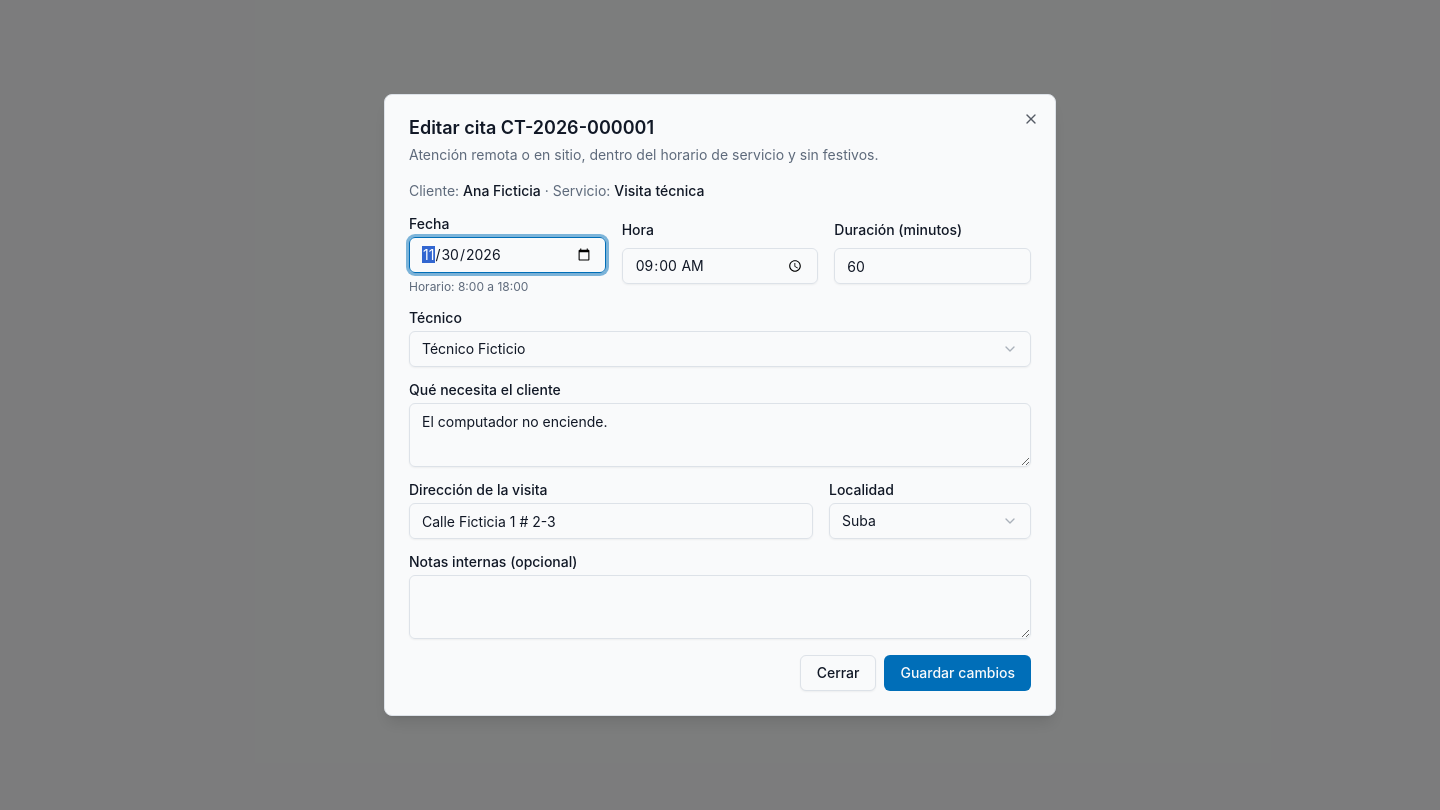
Test case: AppointmentFormDialog › asks for a reason when the technician is busy and then saves
Later steps or results of the test are not shown.
expect the date field labelled "Fecha" holds "2026-11-30": met, box [409,237,606,273]
Replace the text in the time field labelled "Hora" with "09:30" at (720, 266), box [622,248,818,284]
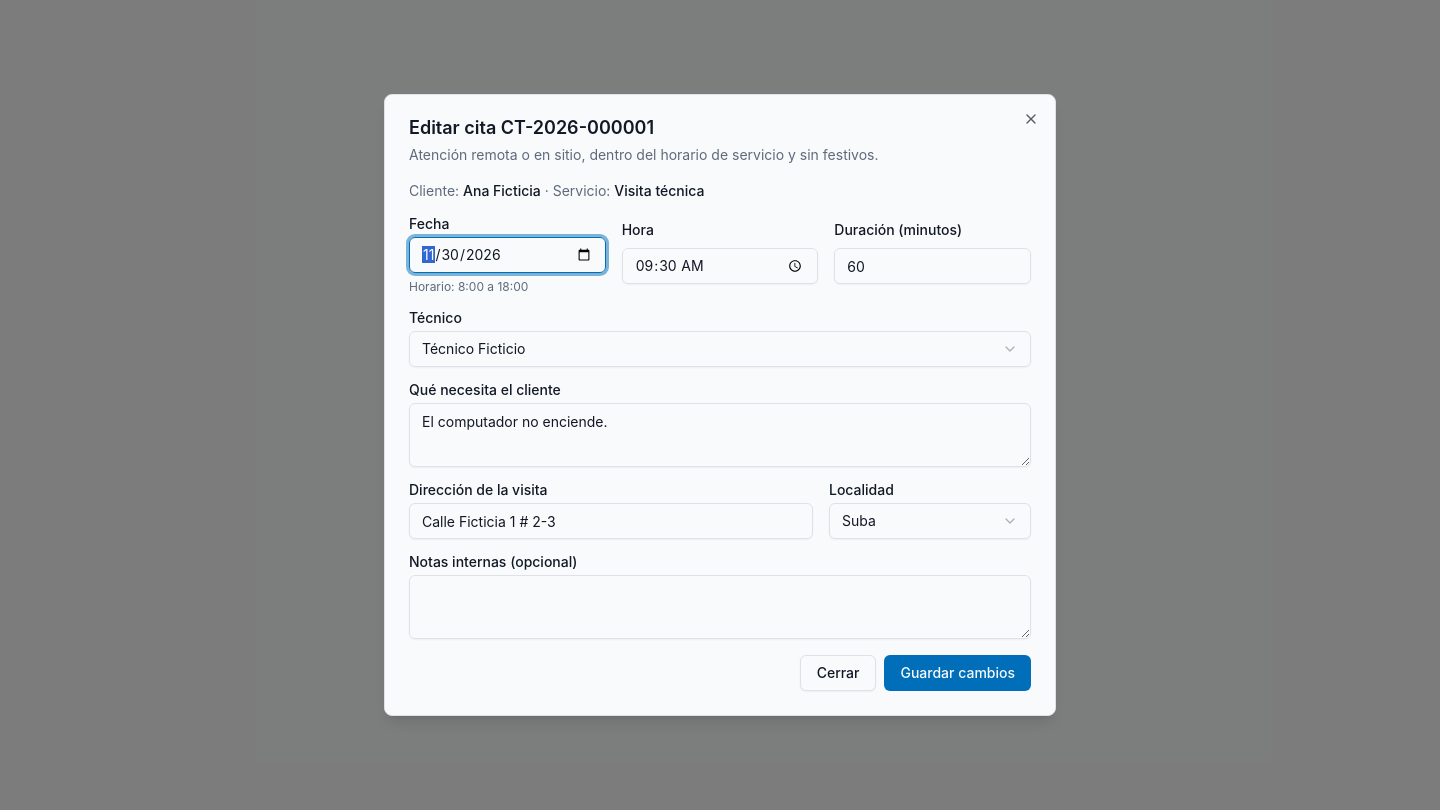
Click the button "Guardar cambios" at (958, 673), box [884,655,1031,691]
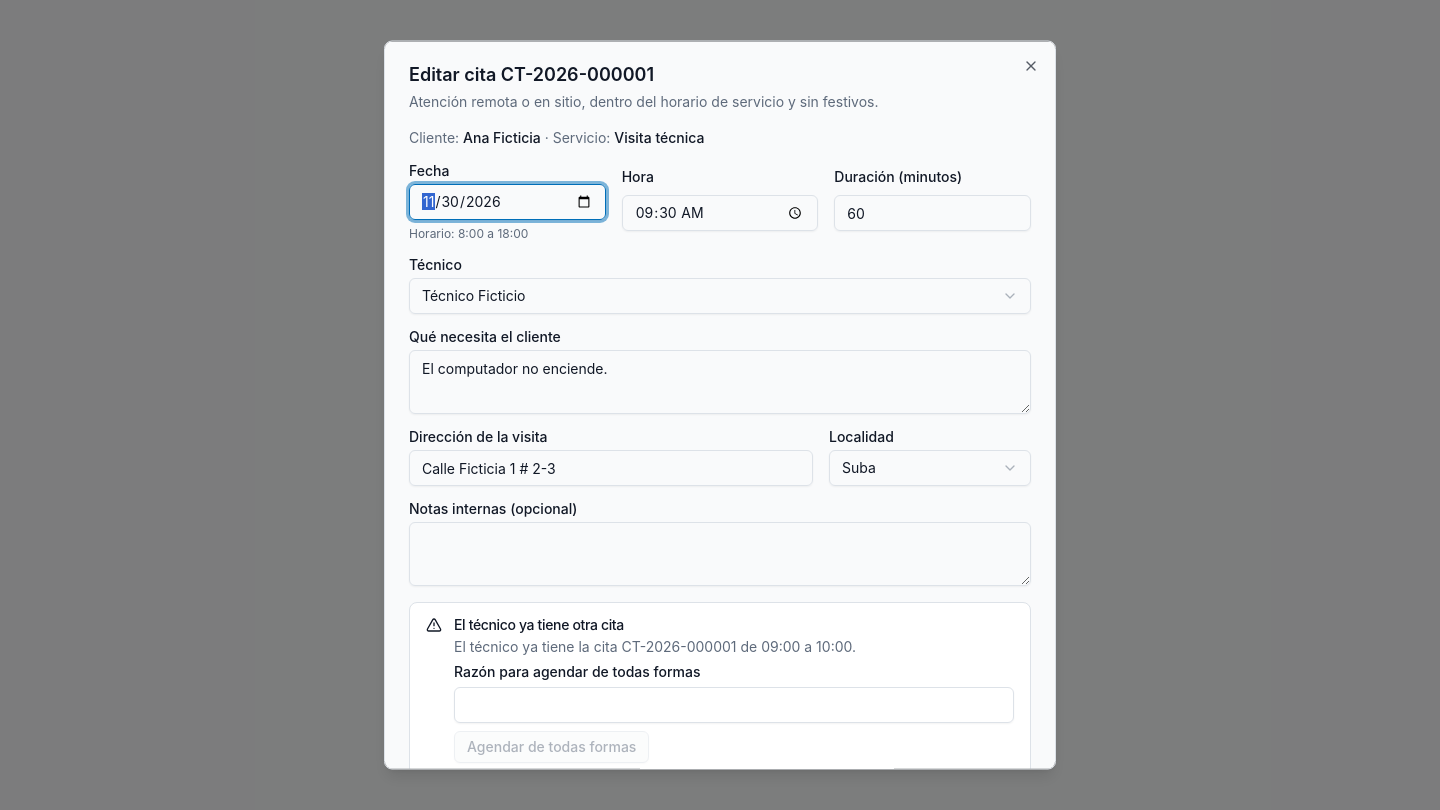
expect the text "El técnico ya tiene la cita CT-2026-000001 de 09:00 a 10:00." is shown: met, box [454,636,856,656]
expect the button "Agendar de todas formas" is disabled: met, box [454,730,649,762]
